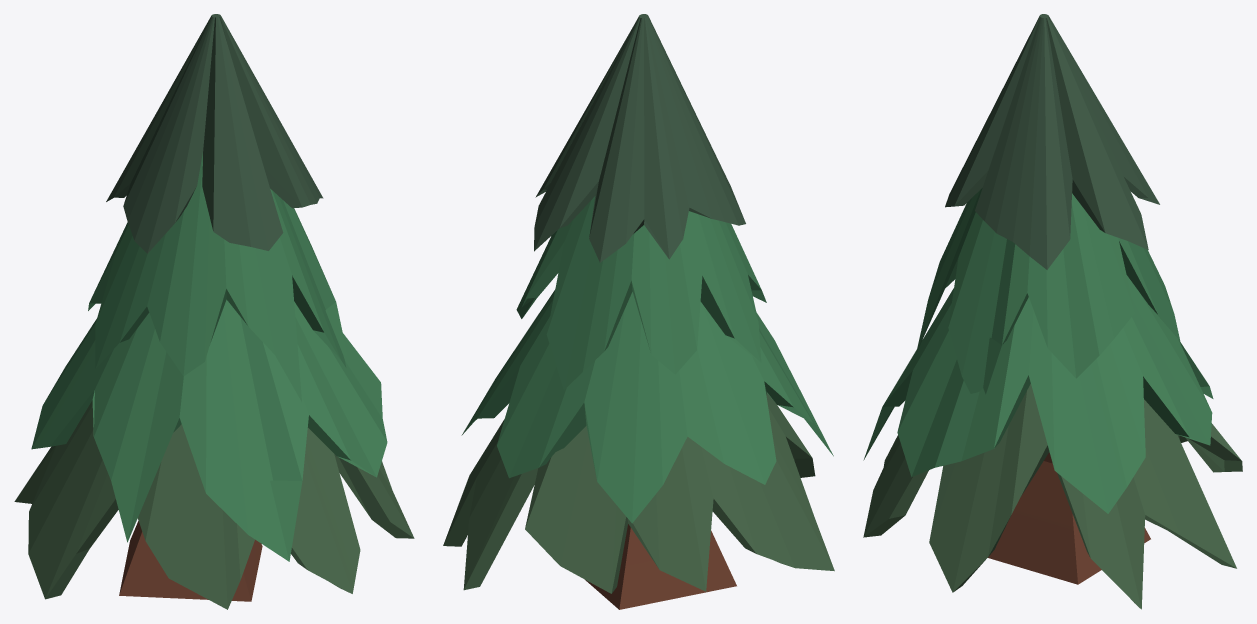
File: leaftree3.fbx
3 renders of one model, left to right at view 1: azimuth 30°, elevation 25°; view 2: azimuth 150°, elevation 25°; view 3: azimuth 270°, elevation 25°, orthographic. The views are drawn at different scales.
Visible parts, largest first — view 1: leaftree3; view 2: leaftree3; view 3: leaftree3.
Boxes of the visible parts, x1=… form: leaftree3: x1=14, y1=14, x2=414, y2=609; leaftree3: x1=443, y1=14, x2=834, y2=609; leaftree3: x1=863, y1=14, x2=1242, y2=609.
Size of the model in its own units: 2.61 by 4.14 by 2.65.
